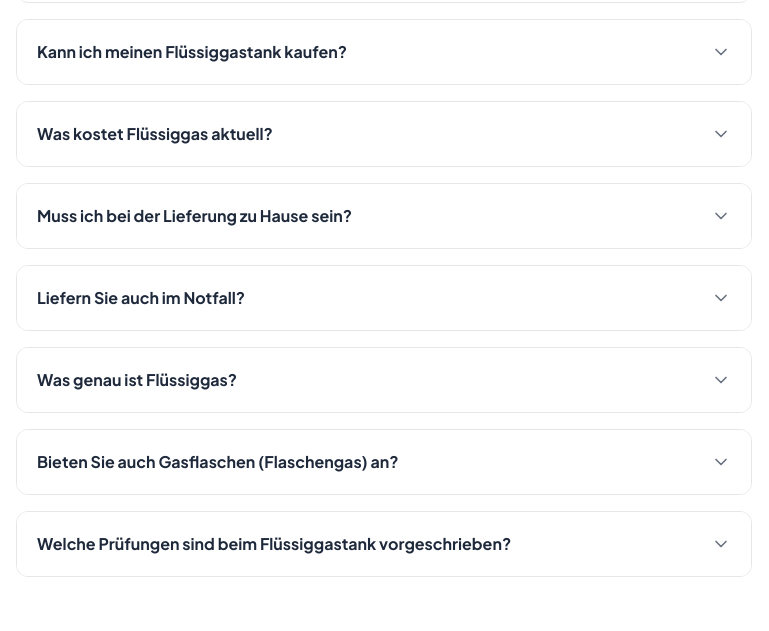
FAQ Component › opens answer on click
(page scrolled)
Click the button "Bieten Sie auch Gasflaschen (Flaschengas) an?" at (384, 462), box [17,430,751,494]
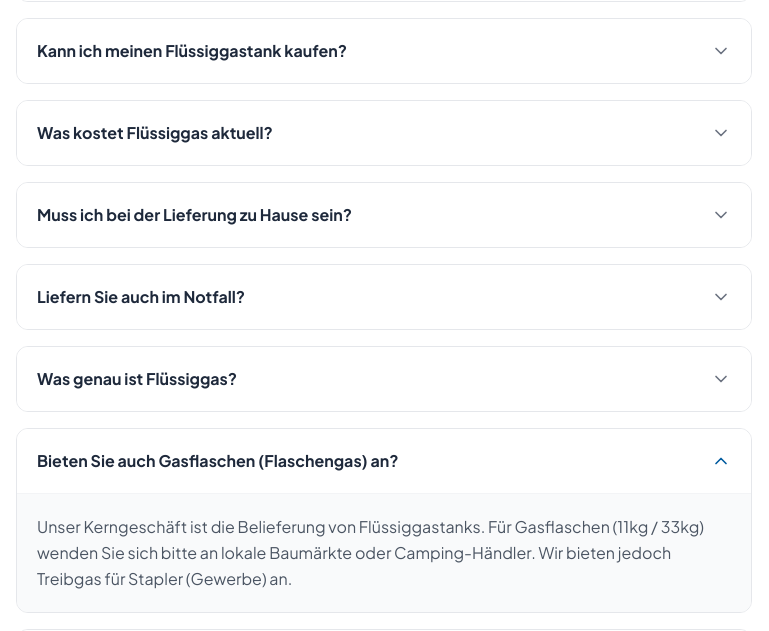
Check: the text "Unser Kerngeschäft ist die Belieferung" is shown, box [37,516,704,589]
